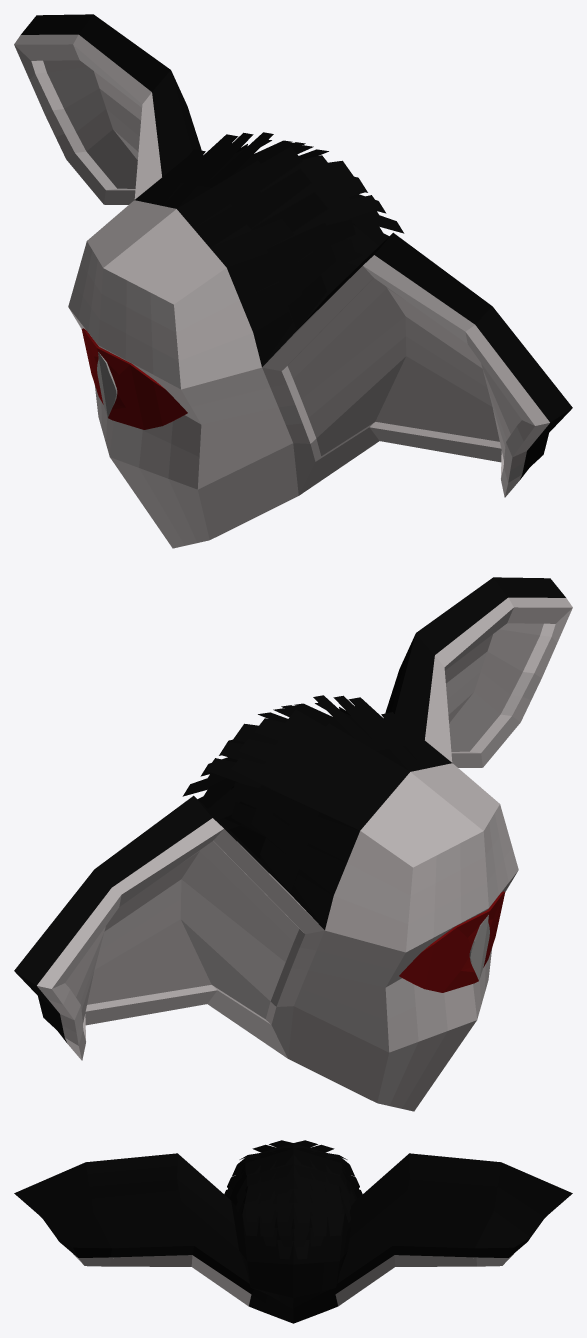
Rendered from Chonchon2.3.fbx.
3 views of the same model, one above another, from view 1: azimuth 30°, elevation 25°; view 2: azimuth 150°, elevation 25°; view 3: azimuth 270°, elevation 25° (orthographic). The views are drawn at different scales.
Visible parts, largest first — view 1: Chonchon, Cube.001; view 2: Chonchon, Cube.001; view 3: Chonchon.
Boxes of the visible parts, x1=… form: Chonchon: x1=14, y1=14, x2=572, y2=548; Cube.001: x1=81, y1=328, x2=187, y2=429; Chonchon: x1=14, y1=577, x2=572, y2=1111; Cube.001: x1=399, y1=891, x2=505, y2=992; Chonchon: x1=14, y1=1140, x2=572, y2=1323.
Size of the model in its own units: 197 by 250 by 638.
